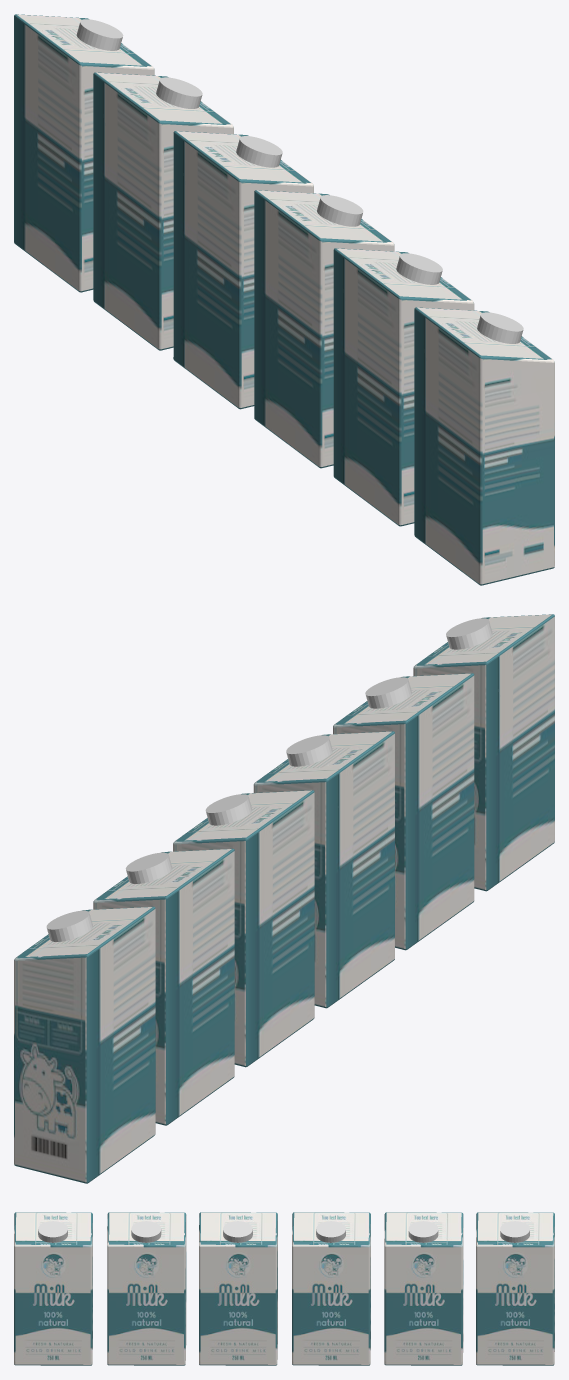
Rendered from Milk002(set).glb.
3 renders of one model, top to bottom at view 1: azimuth 30°, elevation 25°; view 2: azimuth 150°, elevation 25°; view 3: azimuth 270°, elevation 25°, orthographic. The views are drawn at different scales.
Parts seen in each view (by area): view 1: Tetrapak.005, Tetrapak.004, Tetrapak, Tetrapak.001, Tetrapak.003, Tetrapak.002; view 2: Tetrapak.002, Tetrapak.005, Tetrapak.003, Tetrapak, Tetrapak.001, Tetrapak.004; view 3: Tetrapak.001, Tetrapak.004, Tetrapak, Tetrapak.002, Tetrapak.003, Tetrapak.005.
Part boxes in pixels (x1,y1,x2,y2): Tetrapak.005: [414, 307, 554, 585]; Tetrapak.004: [333, 248, 474, 526]; Tetrapak: [173, 131, 313, 409]; Tetrapak.001: [93, 72, 233, 350]; Tetrapak.003: [254, 190, 394, 468]; Tetrapak.002: [14, 14, 154, 292]; Tetrapak.002: [14, 906, 155, 1183]; Tetrapak.005: [413, 614, 554, 891]; Tetrapak.003: [253, 731, 394, 1008]; Tetrapak: [173, 790, 314, 1067]; Tetrapak.001: [93, 848, 234, 1125]; Tetrapak.004: [333, 673, 474, 950]; Tetrapak.001: [384, 1212, 463, 1365]; Tetrapak.004: [107, 1212, 186, 1365]; Tetrapak: [292, 1212, 370, 1365]; Tetrapak.002: [476, 1212, 554, 1365]; Tetrapak.003: [199, 1212, 277, 1365]; Tetrapak.005: [14, 1212, 92, 1365].
Size of the model in its own units: 0.2145 by 0.625 by 2.28.
Materials: 2 (1 with a texture image).
